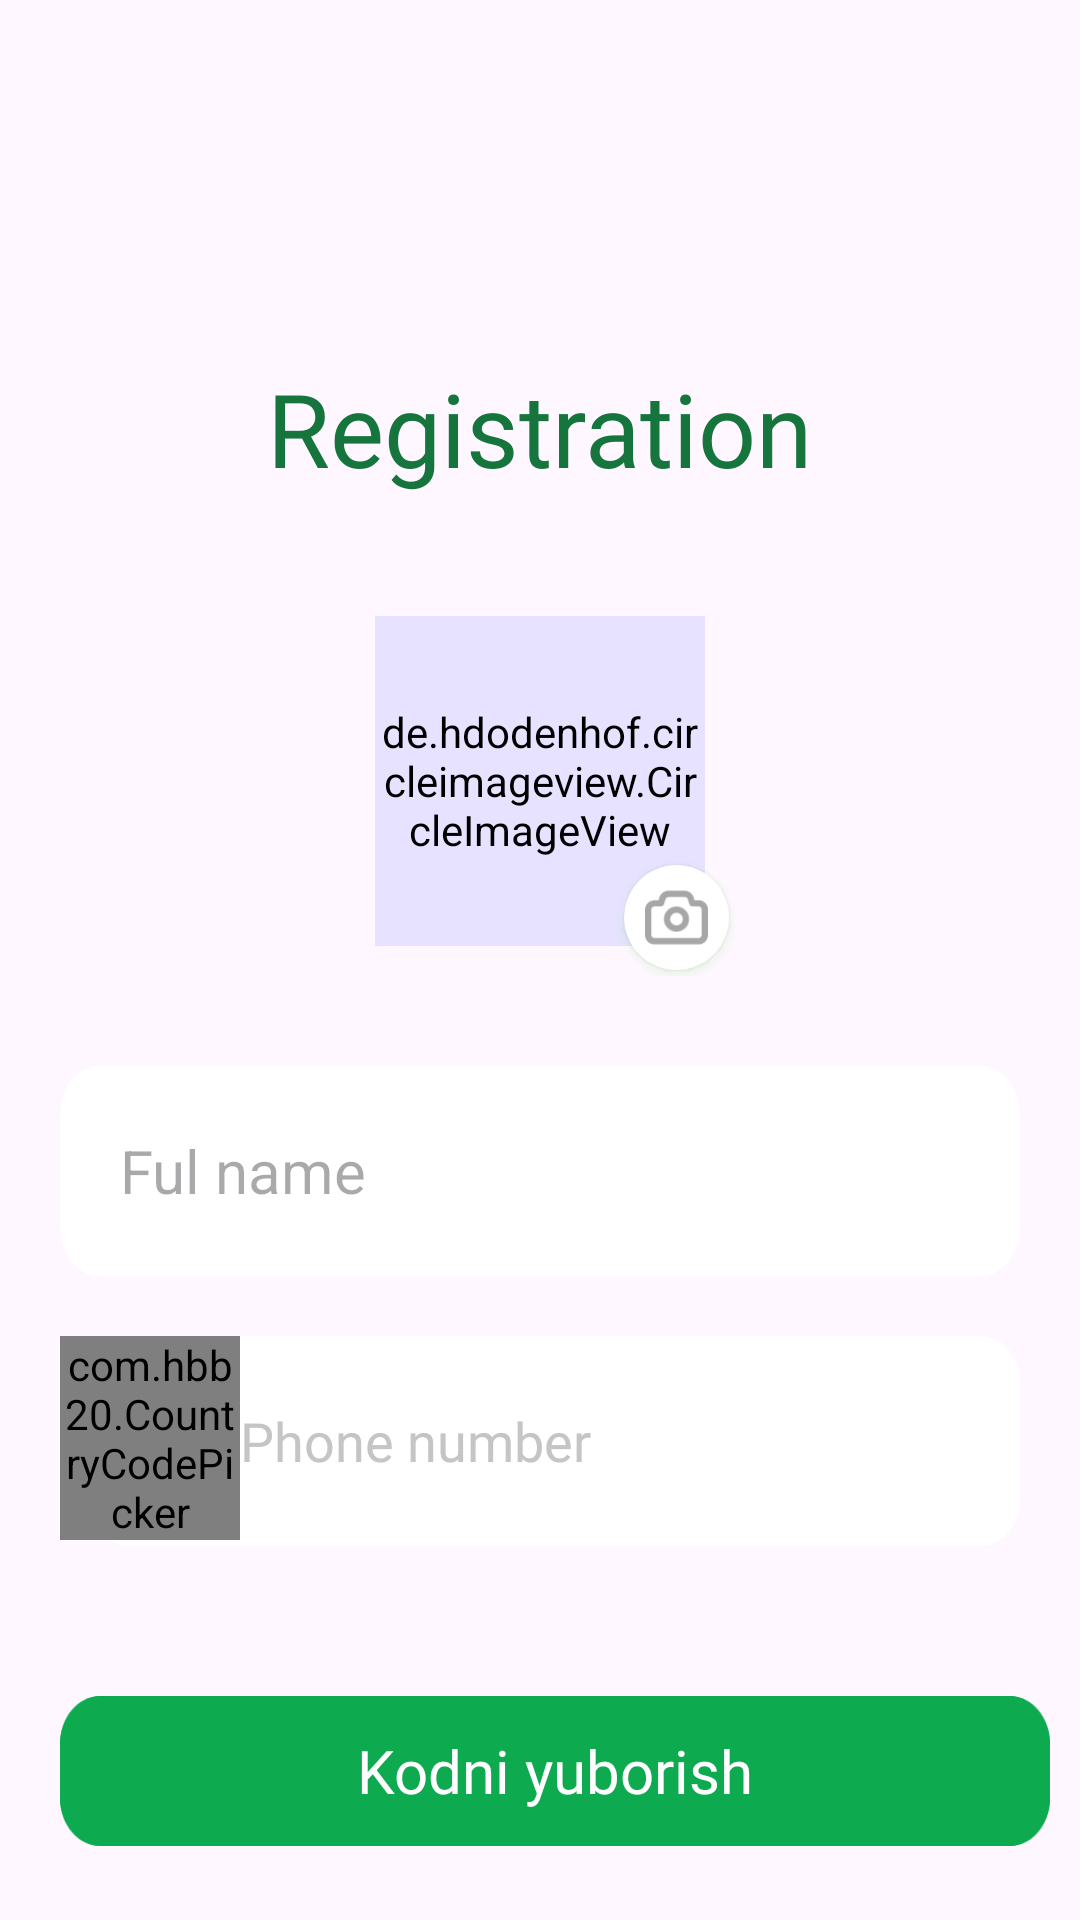

Where to tap for icons on this 1080x1920 app screen, as point (x, y):
camera: point (676, 917)
